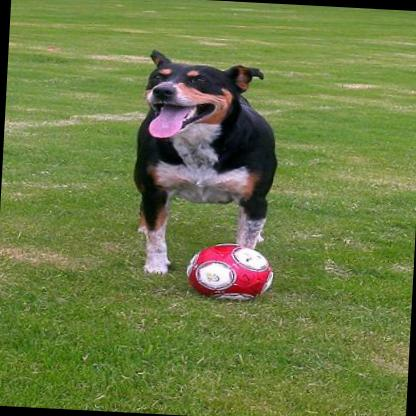kelpie: (126, 46, 280, 282)
